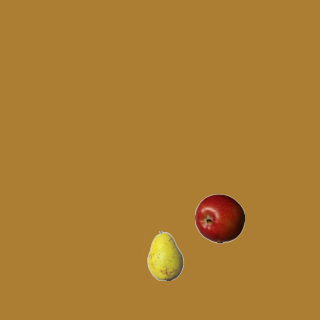Apple Braeburn: (194, 193, 244, 243)
Pear Monster: (140, 230, 190, 280)
